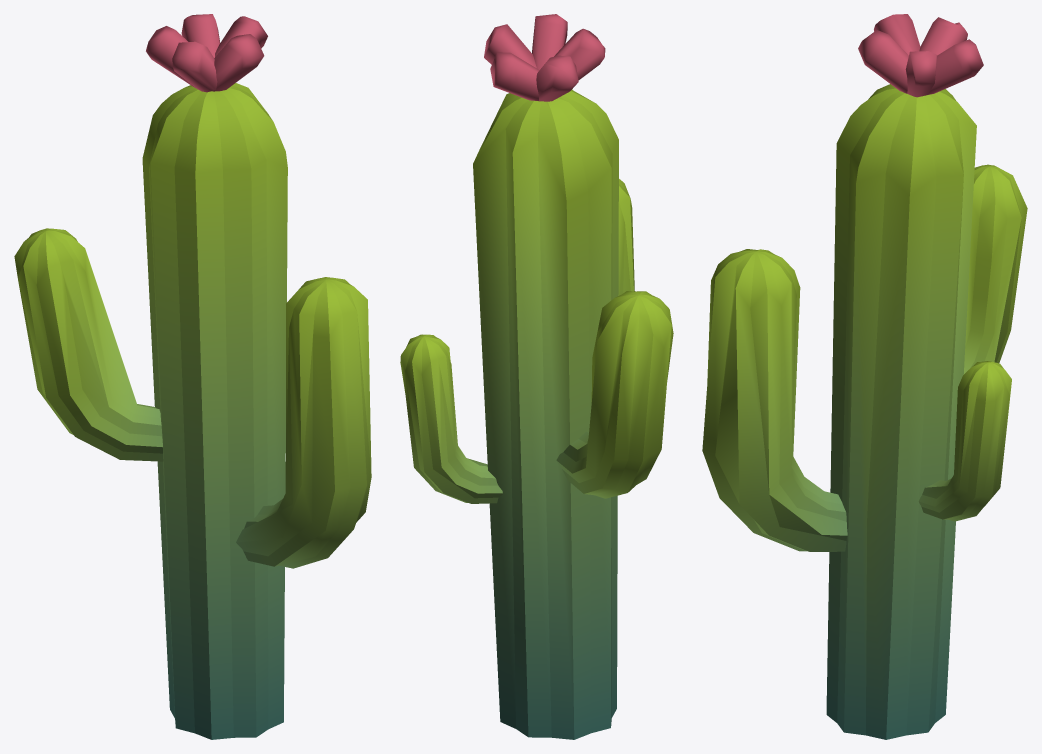
3 renders of one model, left to right at view 1: azimuth 30°, elevation 25°; view 2: azimuth 150°, elevation 25°; view 3: azimuth 270°, elevation 25°, orthographic. The views are drawn at different scales.
Visible parts, largest first — view 1: LOD 1_7895142726789826799_f747010238922ae448abd02d66270030; view 2: LOD 1_7895142726789826799_f747010238922ae448abd02d66270030; view 3: LOD 1_7895142726789826799_f747010238922ae448abd02d66270030.
Boxes of the visible parts, x1,y1,x2,y2 form: LOD 1_7895142726789826799_f747010238922ae448abd02d66270030: [14, 14, 371, 739]; LOD 1_7895142726789826799_f747010238922ae448abd02d66270030: [400, 14, 673, 739]; LOD 1_7895142726789826799_f747010238922ae448abd02d66270030: [702, 14, 1027, 739].
Bounding box in the file's own units: 1.08 × 2.66 × 1.14.
